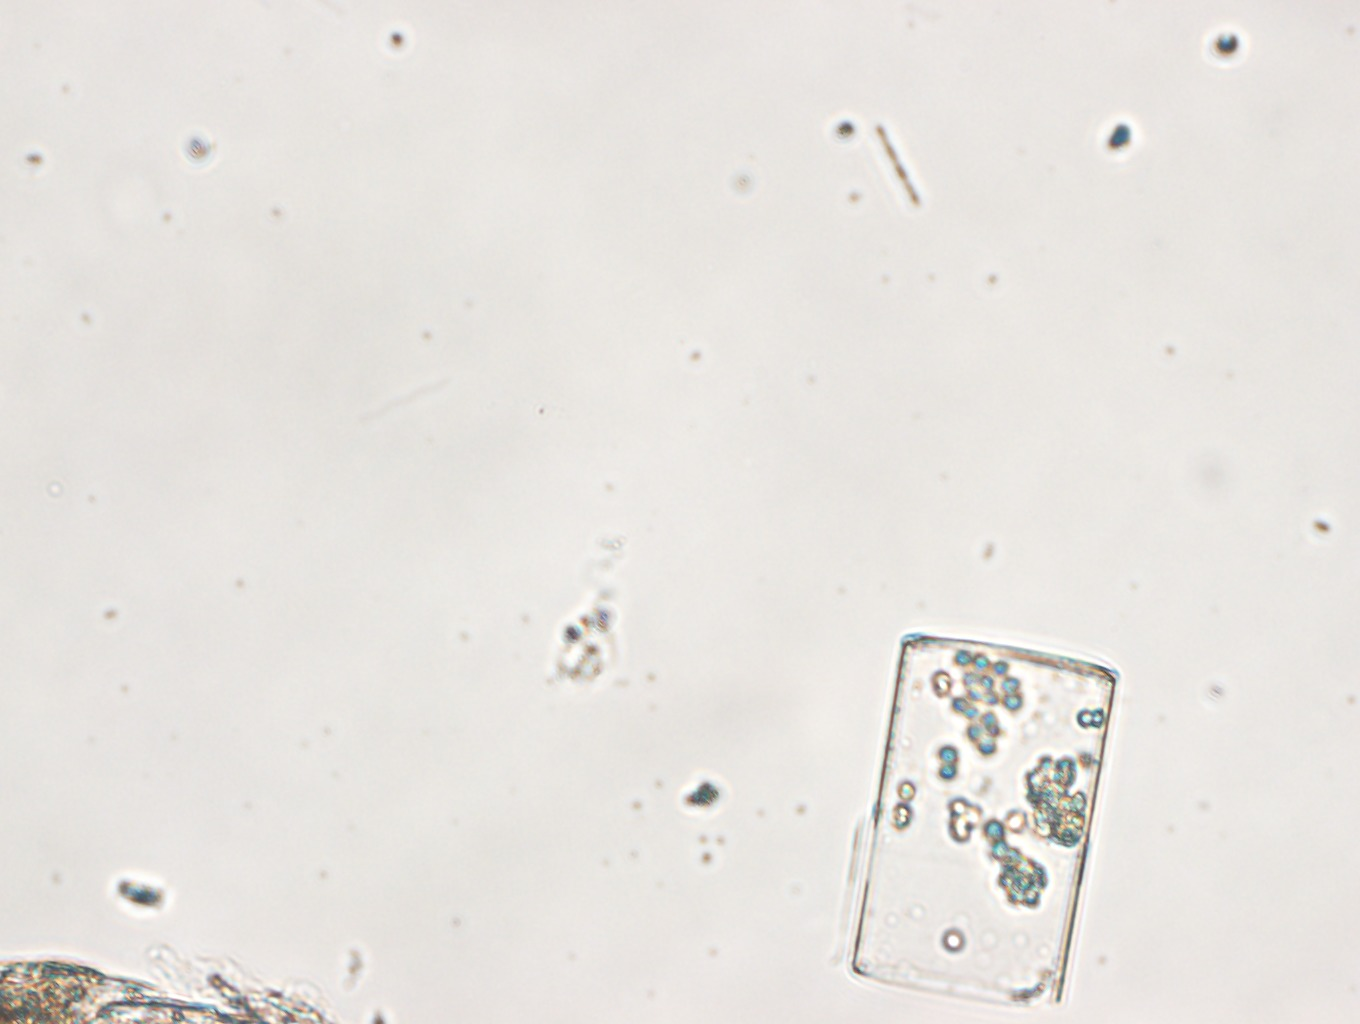guinardia flaccida: (851, 632, 1117, 1002)
